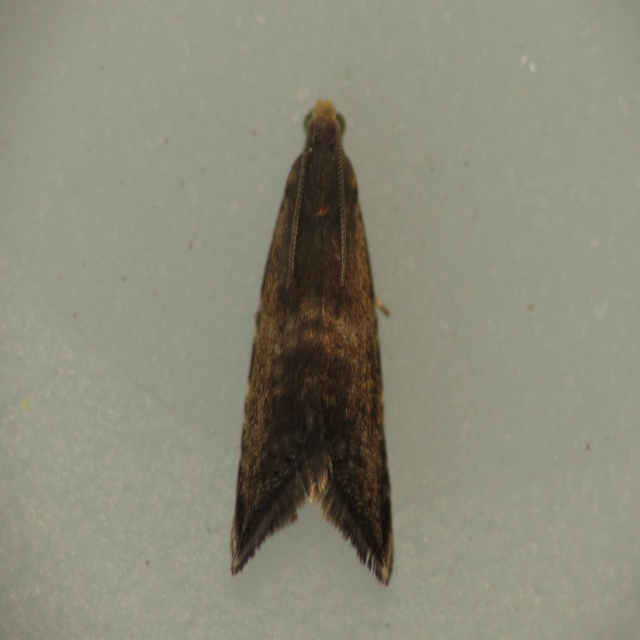Moths and butterflies: (229, 93, 395, 589)
